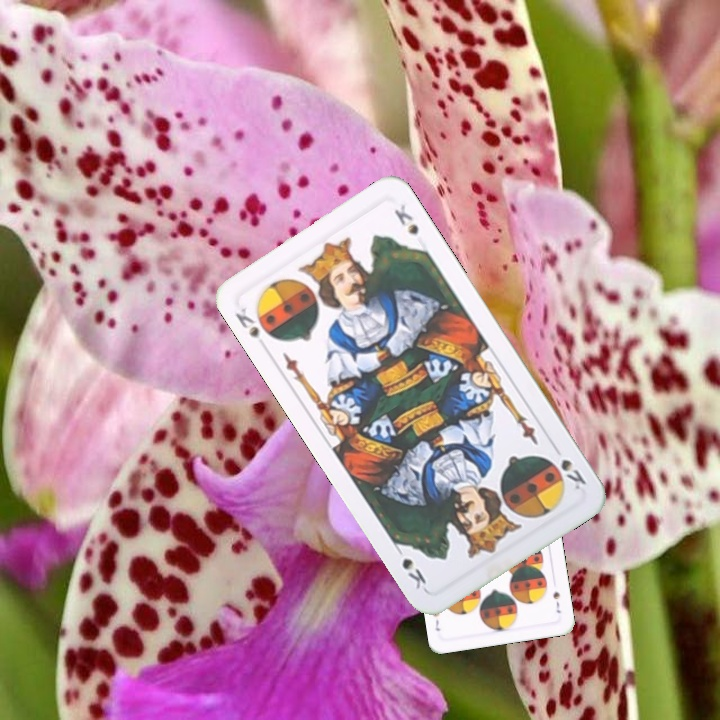S7: (549, 587, 564, 616)
SK: (548, 440, 589, 493), (231, 303, 262, 341)
